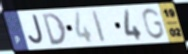4: (75, 10, 95, 46), (124, 8, 144, 43)
D: (40, 12, 68, 47)
G: (140, 7, 166, 41)
I: (90, 9, 108, 44)
J: (27, 14, 45, 47)
